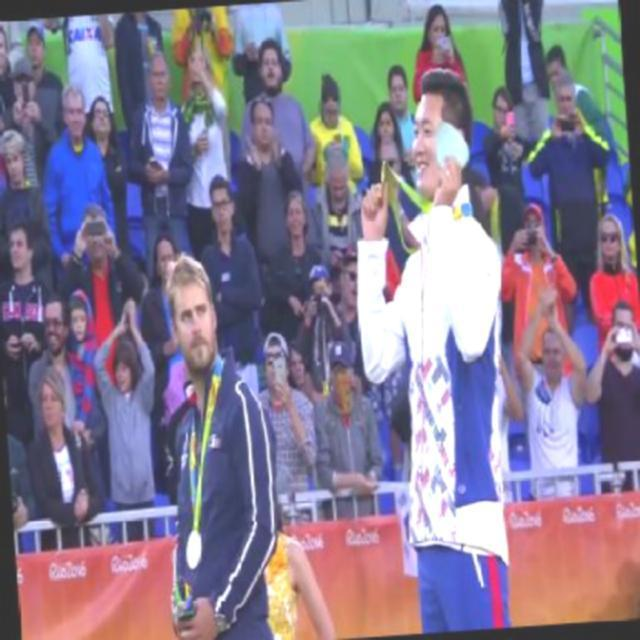non-fight: (338, 68, 517, 636), (152, 254, 288, 638)
